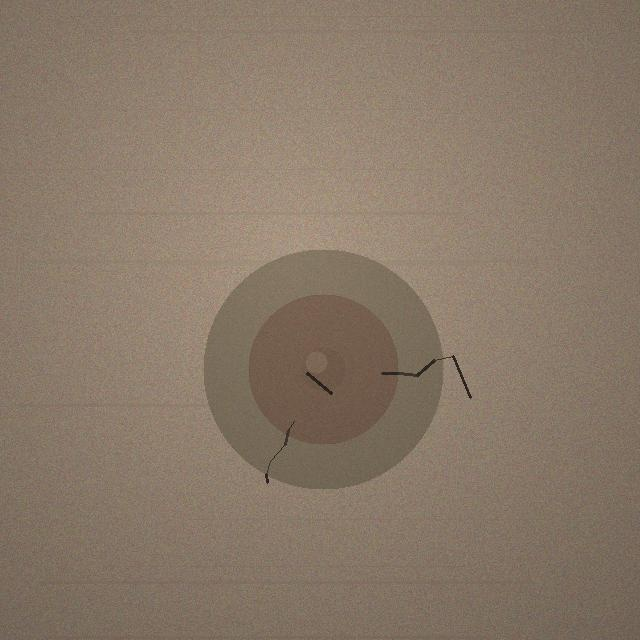crack: (203, 249, 443, 489)
